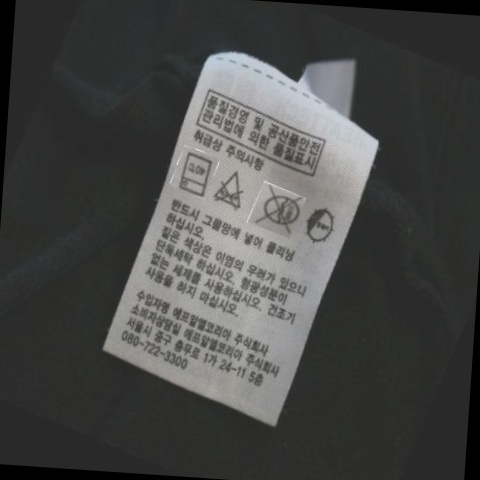40C: (173, 150, 218, 200)
DN_dry_clean: (257, 184, 307, 235)
line_dry_in_shade: (300, 200, 342, 249)
non_chlorine_bleach: (211, 166, 255, 214)
